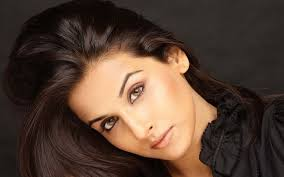indian_female: (13, 1, 226, 160)
